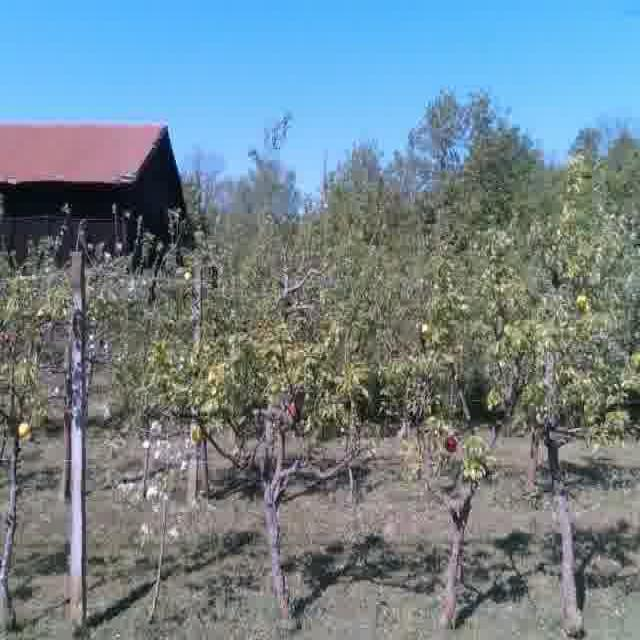red: (442, 436, 459, 451)
yellow: (14, 419, 30, 442)
